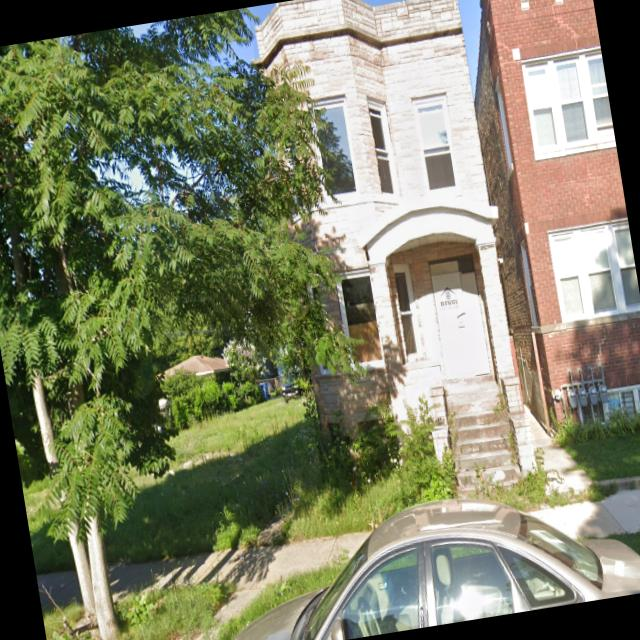House: (247, 0, 536, 515), (454, 0, 640, 441)
